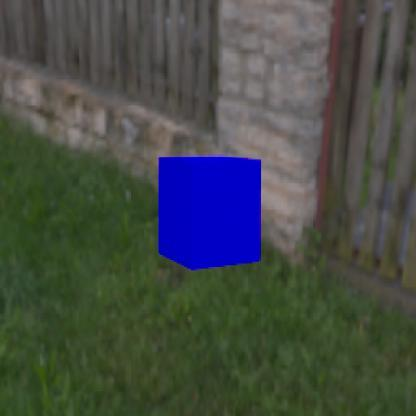cube: (158, 154, 262, 270)
